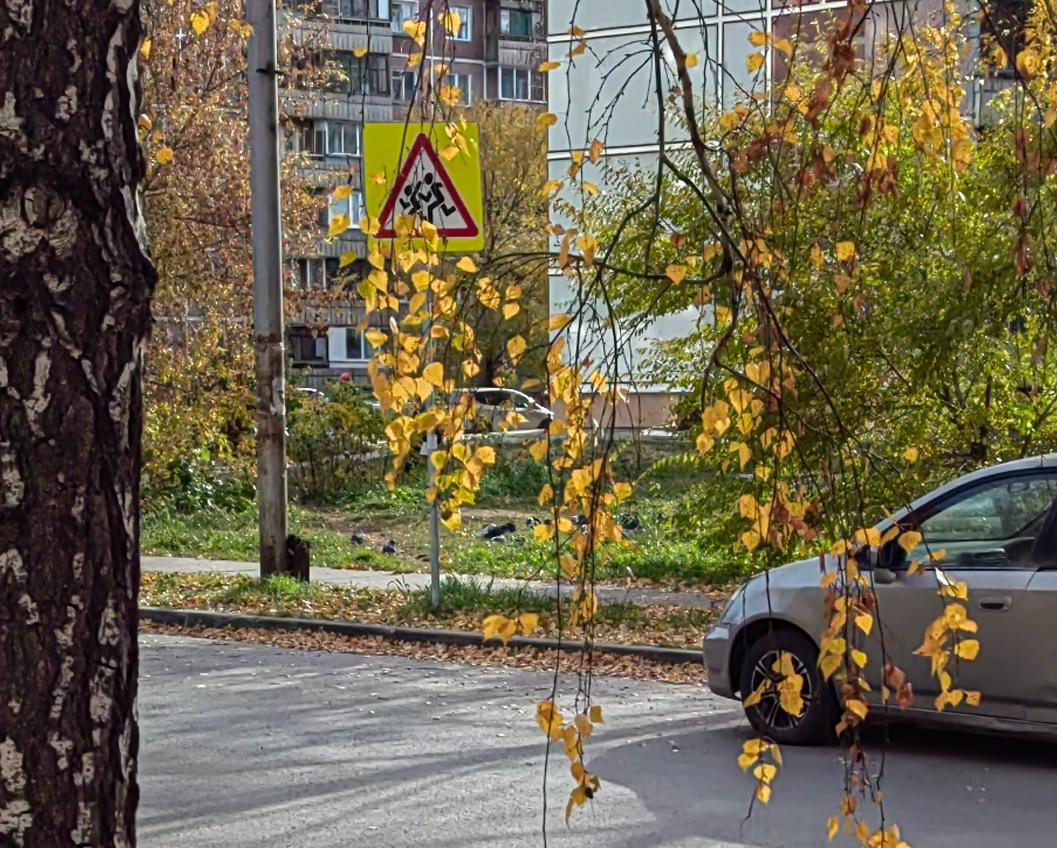obstructed_road_sign: (363, 121, 484, 252)
